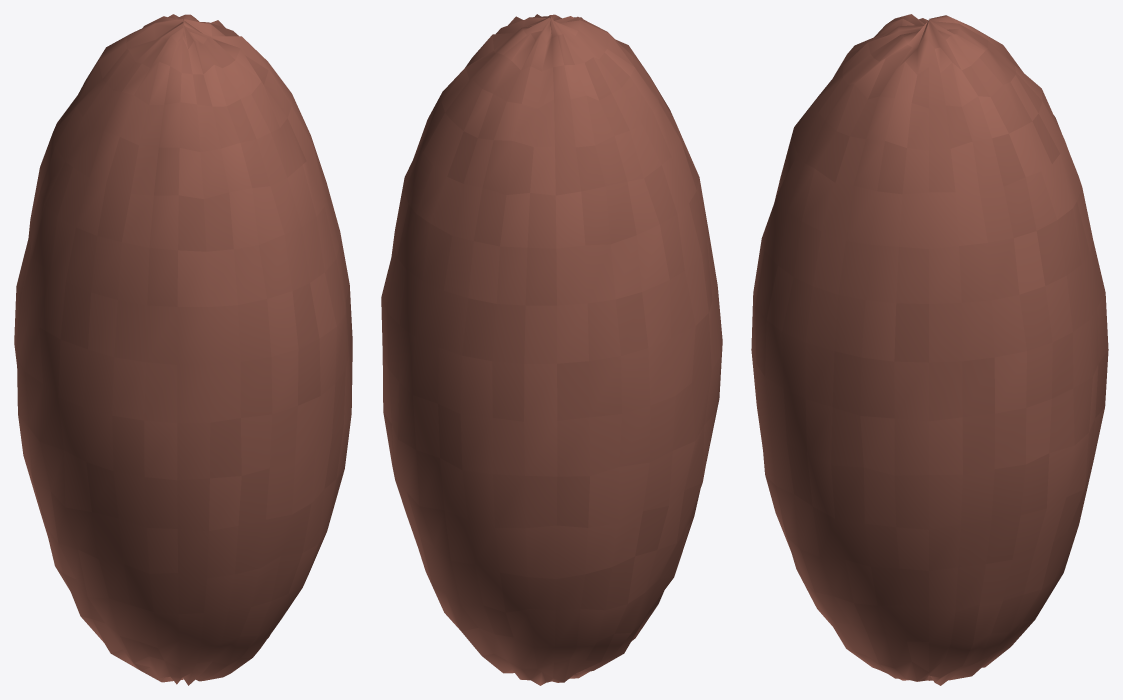
The model's file is SweetPotato.glb.
3 views of the same model, side by side, from view 1: azimuth 30°, elevation 25°; view 2: azimuth 150°, elevation 25°; view 3: azimuth 270°, elevation 25° (orthographic).
Visible parts, largest first — view 1: SweetPotato; view 2: SweetPotato; view 3: SweetPotato.
Part boxes in pixels (bbox=[...]): SweetPotato: bbox=[14, 14, 352, 685]; SweetPotato: bbox=[381, 14, 722, 685]; SweetPotato: bbox=[751, 14, 1108, 685].
Size of what is drawn, in the model's own units: 0.0648 by 0.1409 by 0.0689.
